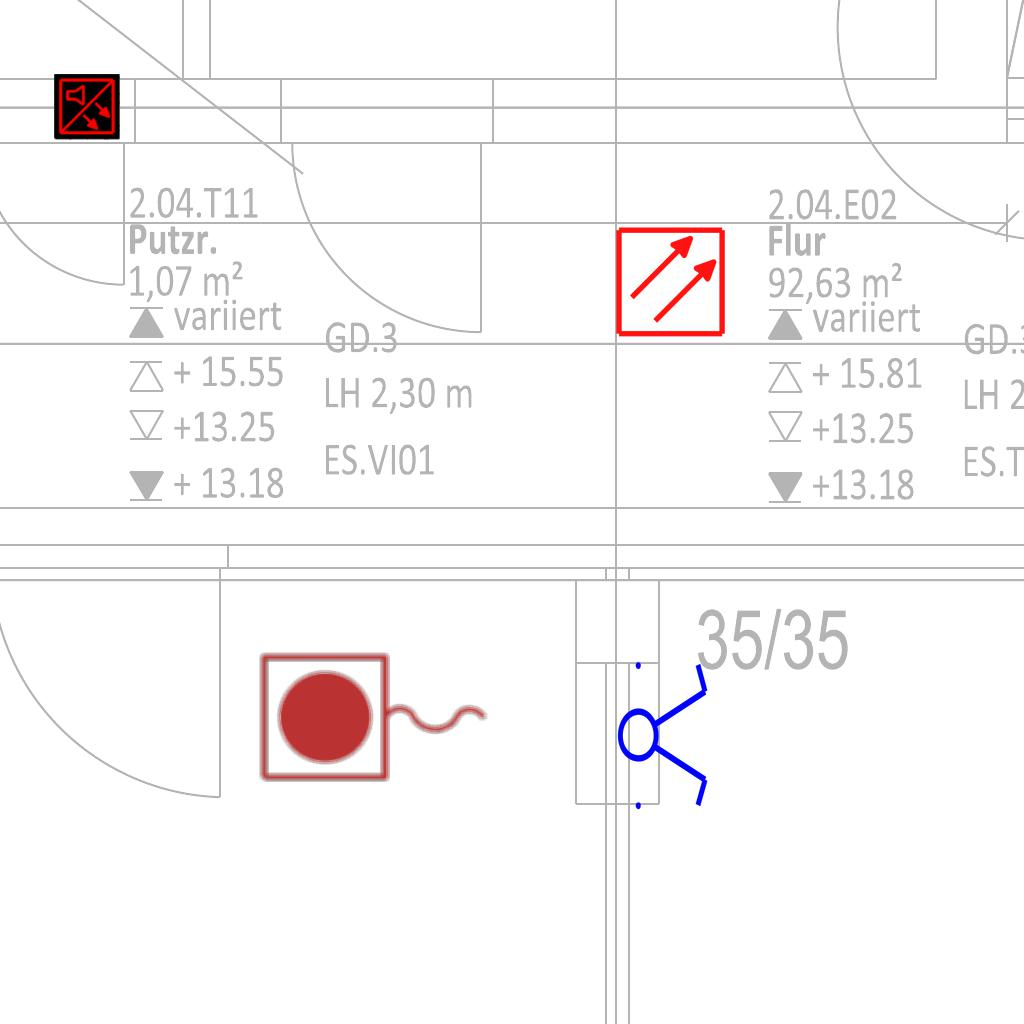OKW_Multisensormelder_(Kombination_optischer_Rauch-Kahlenmonoxid_Waerme-Melder): (54, 74, 120, 140)
RMO_Rauchmelder_optischer: (614, 225, 727, 338)
Serienschalter: (616, 650, 712, 818)
Zugtaster: (253, 647, 497, 791)
